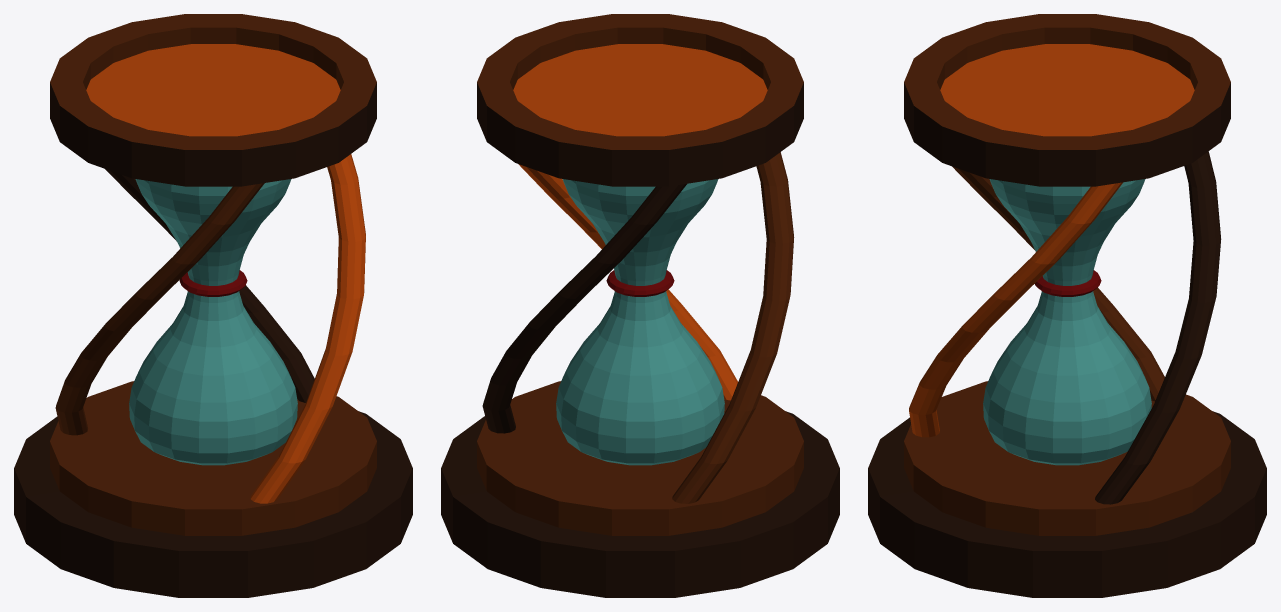
File: Ampulheta_rustica.glb
3 views of the same model, side by side, from view 1: azimuth 30°, elevation 25°; view 2: azimuth 150°, elevation 25°; view 3: azimuth 270°, elevation 25° (orthographic).
Parts seen in each view (by area): view 1: Cylinder_2; view 2: Cylinder_2; view 3: Cylinder_2.
Boxes of the visible parts, box(x1,y1,x2,y2) form: Cylinder_2: box(14, 14, 412, 597); Cylinder_2: box(441, 14, 839, 597); Cylinder_2: box(868, 14, 1266, 597).
Bounding box in the file's own units: 3.57 × 4.35 × 3.63.
3 materials, 3 textured.
